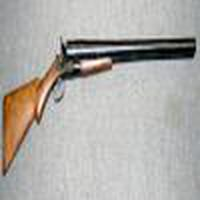gun: (3, 36, 198, 168)
